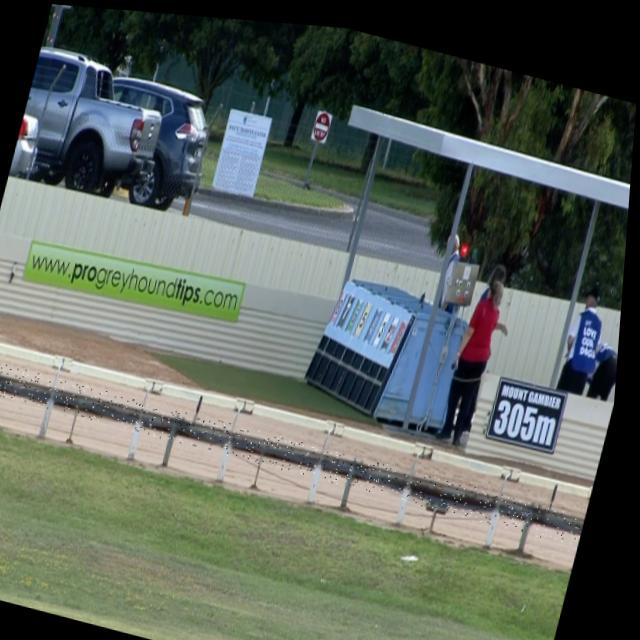rail: (0, 376, 590, 525)
